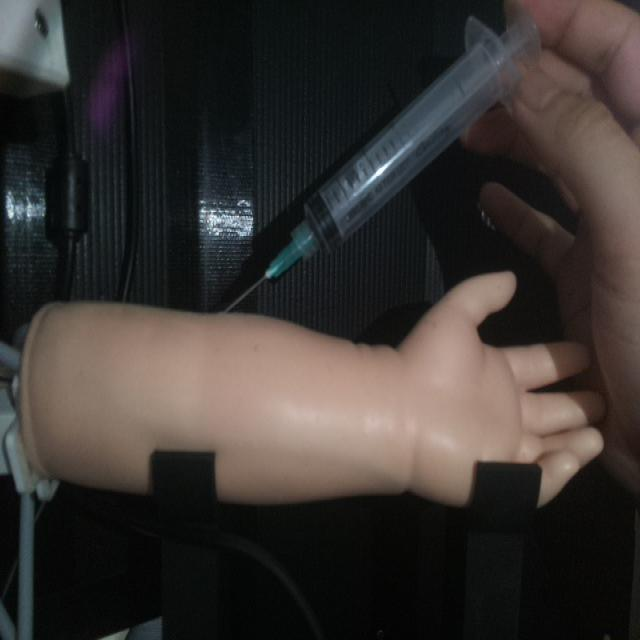Above 30 degrees: (219, 5, 543, 314)
